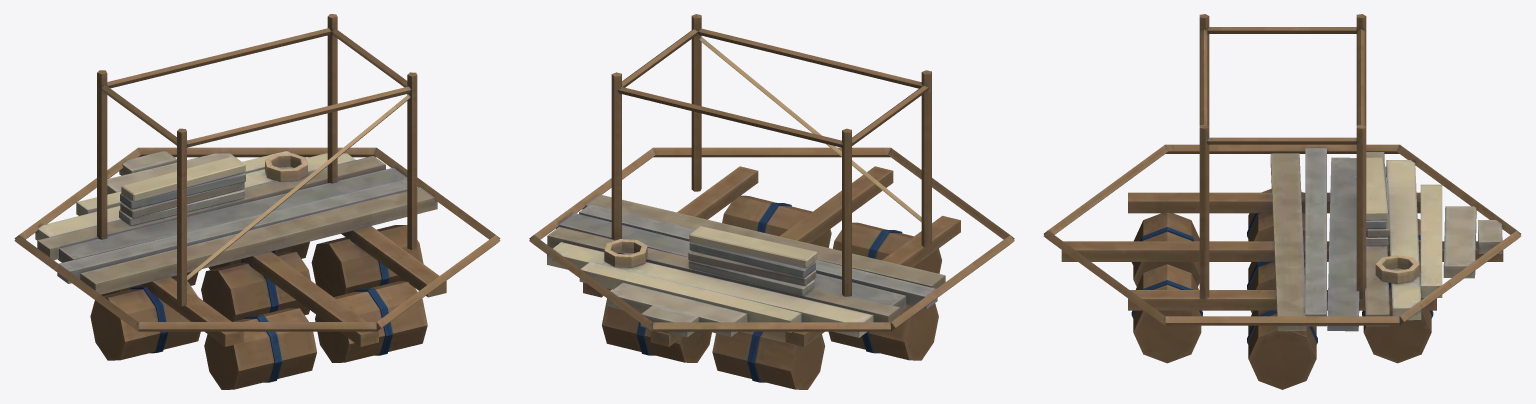
The model's file is raft-yard-age1.glb.
3 views of the same model, side by side, from view 1: azimuth 30°, elevation 25°; view 2: azimuth 150°, elevation 25°; view 3: azimuth 270°, elevation 25° (orthographic).
Visible parts, largest first — view 1: raft-yard-age1; view 2: raft-yard-age1; view 3: raft-yard-age1.
Boxes of the visible parts, <box> form: raft-yard-age1: <box>14,14,500,389</box>; raft-yard-age1: <box>529,14,1014,389</box>; raft-yard-age1: <box>1043,14,1521,389</box>.
Size of the model in its own units: 1.59 by 1.05 by 1.83.
1 material, 1 textured.
